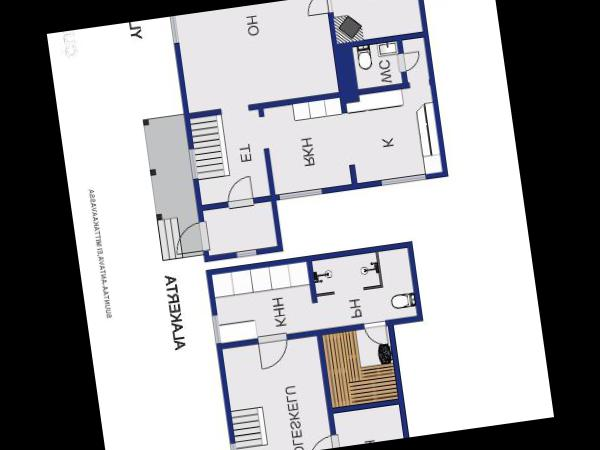door: (168, 216, 212, 258), (252, 328, 292, 373), (220, 174, 258, 212), (360, 316, 392, 350), (393, 46, 424, 76), (300, 431, 341, 450), (303, 0, 335, 19)
window: (273, 182, 326, 204), (376, 168, 428, 190), (205, 310, 226, 346), (183, 146, 200, 182), (165, 14, 182, 48), (233, 246, 258, 262), (223, 437, 242, 450)
